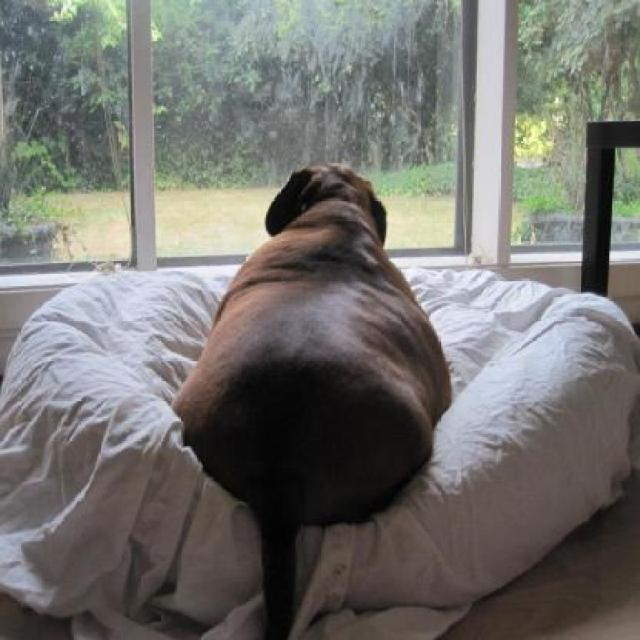Dog: (168, 164, 455, 638)
